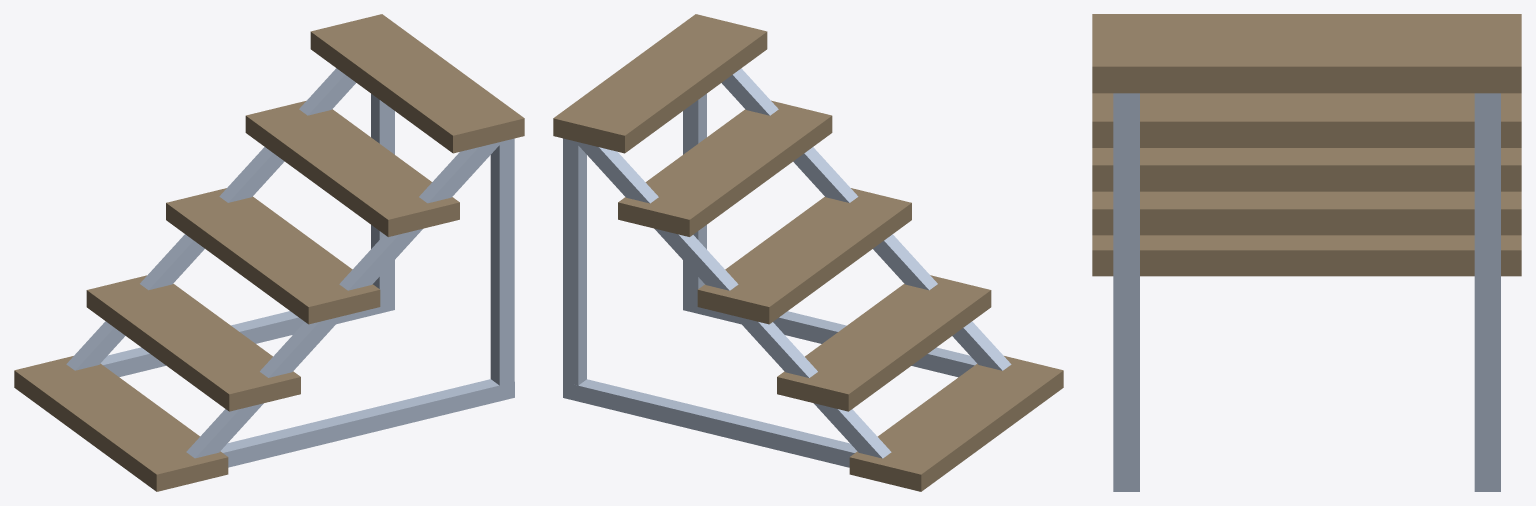
The model's file is Ring stairs.fbx.
3 views of the same model, side by side, from view 1: azimuth 30°, elevation 25°; view 2: azimuth 150°, elevation 25°; view 3: azimuth 270°, elevation 25° (orthographic). The views are drawn at different scales.
Parts seen in each view (by area): view 1: ring stairs; view 2: ring stairs; view 3: ring stairs.
Boxes of the visible parts, left/top/right/bottom form: ring stairs: left=14, top=14, right=524, bottom=491; ring stairs: left=553, top=14, right=1063, bottom=491; ring stairs: left=1092, top=14, right=1521, bottom=491.
Size of the model in its own units: 136 by 100 by 91.37.
